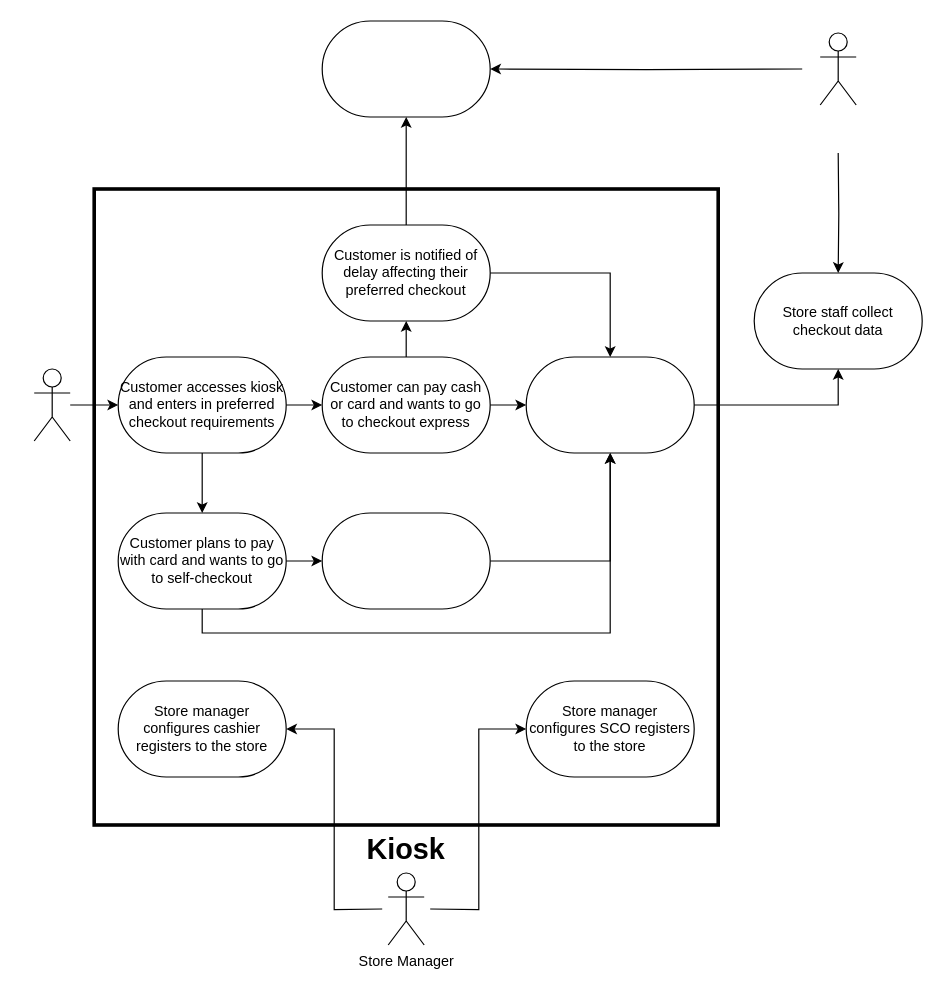
The diagram is 943 pixels wide and 991 high, and some of its shapes have lost their labels. Each missing label, with the centre of its shape:
"Customer" belongs at pixel 51 404.
"Customer is recommended a cashier POS because all SCOs occupied" belongs at pixel 405 560.
"Customer removed from queue after checkout complete" belongs at pixel 609 404.
"Store Staff" belongs at pixel 837 68.
"Store staff are notified POSs are full and new ones may need to be opened" belongs at pixel 405 68.
